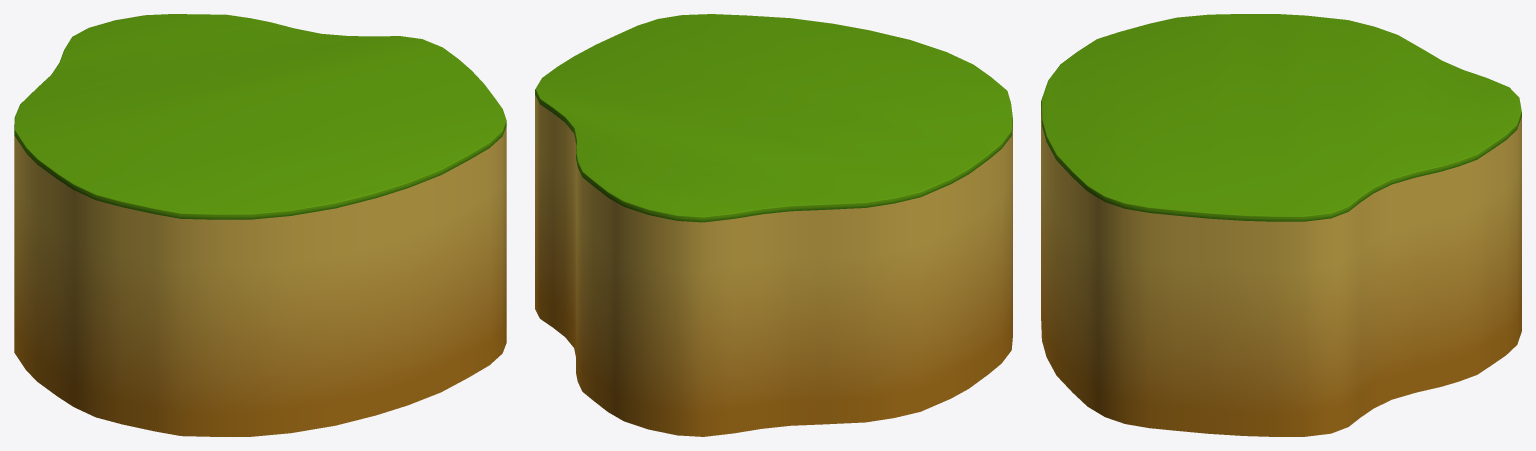
File: LM100NAT01.fbx
The picture shows the model from 3 angles, left to right: view 1: azimuth 30°, elevation 25°; view 2: azimuth 150°, elevation 25°; view 3: azimuth 270°, elevation 25°; orthographic projection.
Visible parts, largest first — view 1: LOD0; view 2: LOD0; view 3: LOD0.
Part boxes in pixels (box(x1,y1,x2,y2)): LOD0: box(14, 14, 506, 436); LOD0: box(535, 14, 1012, 436); LOD0: box(1041, 14, 1521, 436).
Size of what is drawn, in the model's own units: 9839 by 9867 by 5000.
